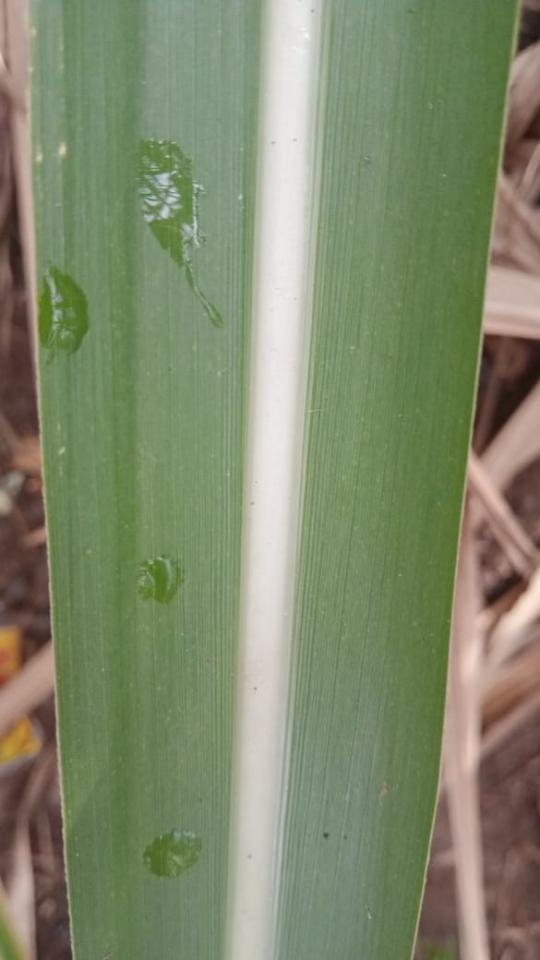Healthy: (30, 0, 520, 959)
